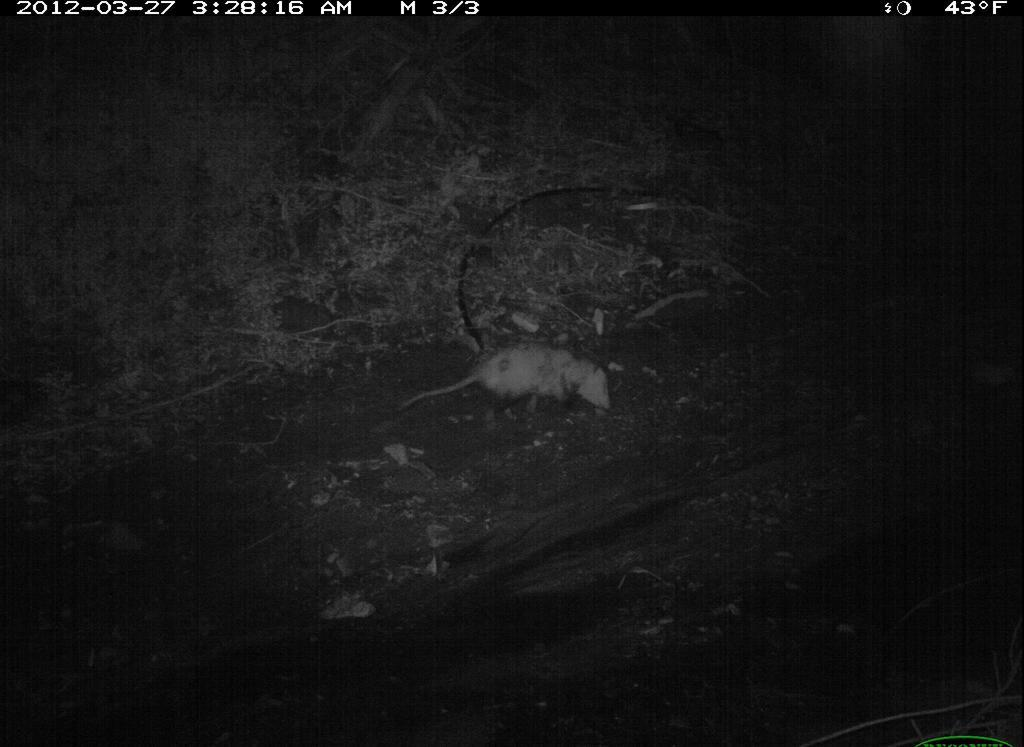opossum: (396, 342, 615, 418)
